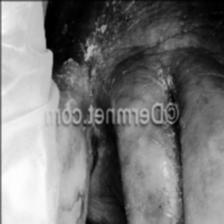Toxin: (54, 0, 126, 92), (122, 124, 181, 224), (60, 128, 102, 224)
